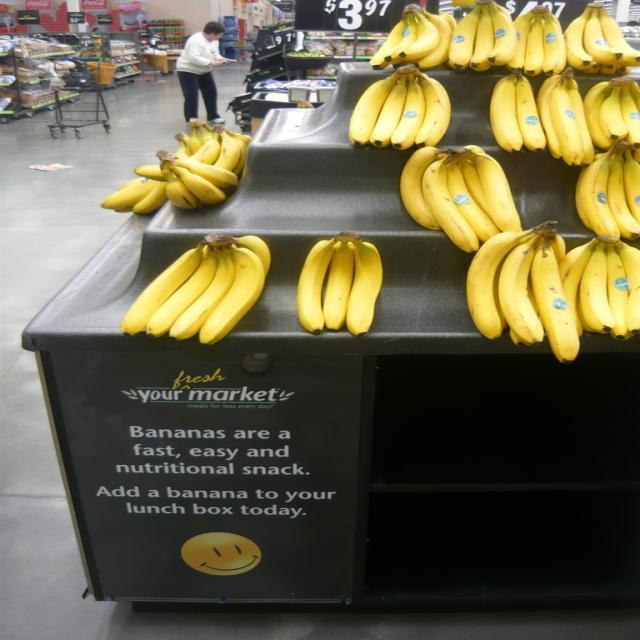Banana: (119, 232, 271, 346), (465, 220, 582, 364), (93, 119, 253, 210), (400, 144, 522, 253), (296, 230, 382, 336), (348, 64, 450, 150), (558, 234, 640, 340), (574, 138, 639, 240), (536, 66, 595, 167), (369, 3, 456, 70), (563, 1, 639, 74), (447, 0, 518, 71), (489, 68, 547, 152), (582, 76, 640, 156), (506, 5, 566, 76)
